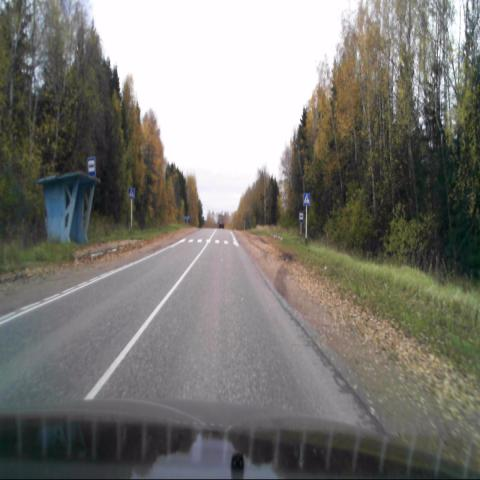5_16: (87, 158, 96, 177)
5_19_1: (302, 192, 311, 206)
